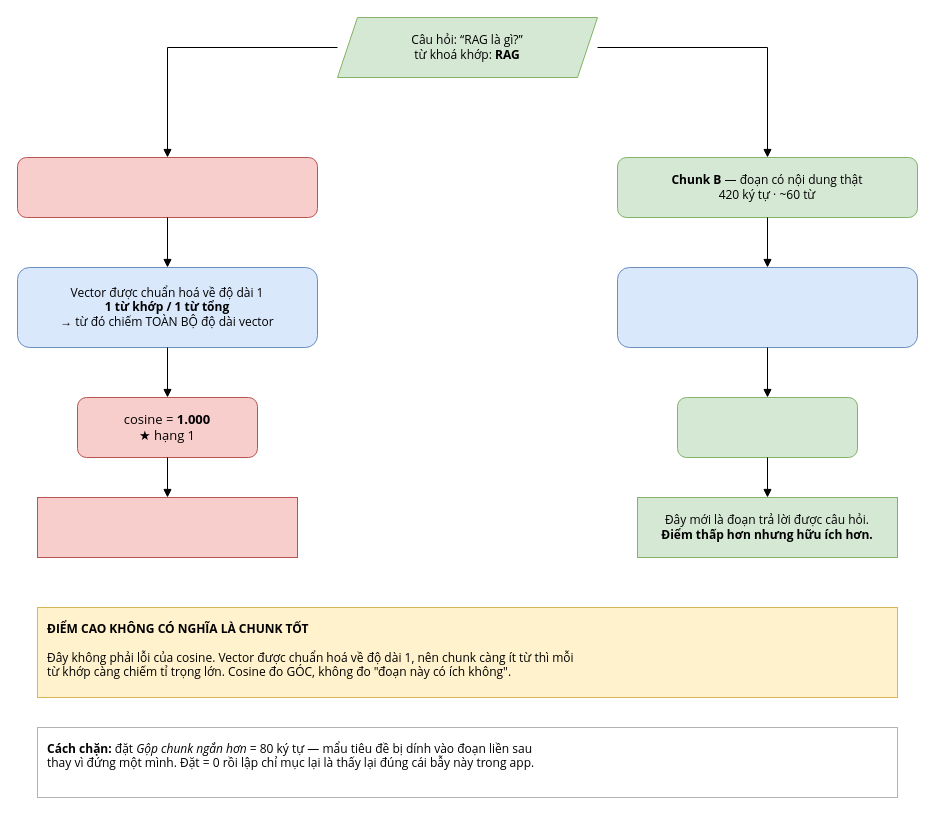
Image size: 935x815. Some labels were removed from this diagram. Here are the shapes that lost their labels. From the top down, the centre of each, then its label:
point 167,187: Chunk A — mẩu tiêu đề "## RAG" · 9 ký tự · 1 từ
point 767,307: Cũng chuẩn hoá về độ dài 1 1 từ khớp / 60 từ tổng → từ đó chỉ chiếm một phần nhỏ
point 767,427: cosine = 0.250 ★ hạng 2
point 167,527: Nhưng nội dung là 6 ký tự tiêu đề. Không trả lời được gì cả.
